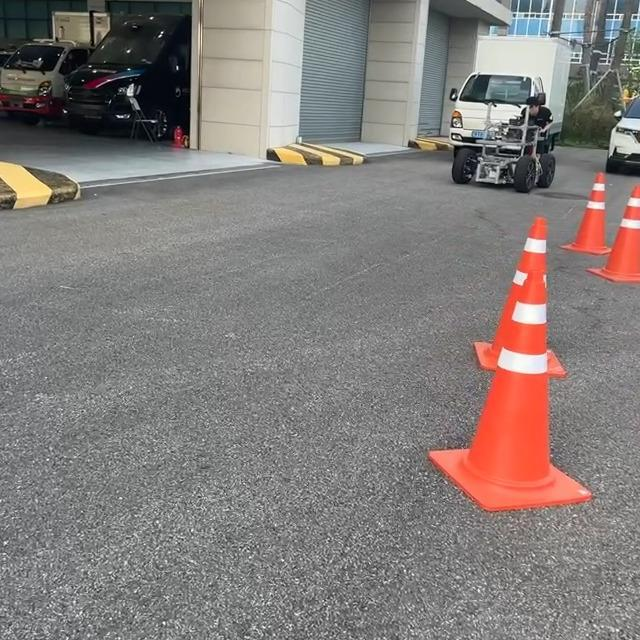fallen_object: (460, 195, 584, 504), (567, 149, 640, 354)
